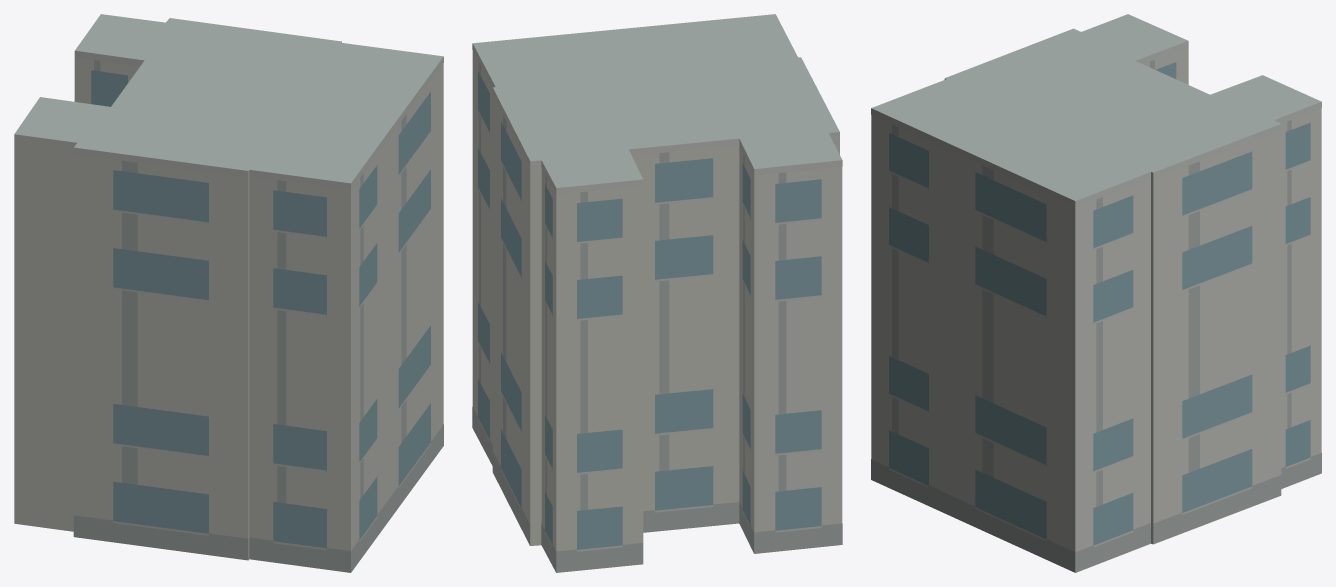
Rendered from survey-upis-32888631.glb.
The picture shows the model from 3 angles, left to right: view 1: azimuth 30°, elevation 25°; view 2: azimuth 150°, elevation 25°; view 3: azimuth 270°, elevation 25°; orthographic projection. The views are drawn at different scales.
Visible parts, largest first — view 1: survey-upis-32888631.tmp; view 2: survey-upis-32888631.tmp; view 3: survey-upis-32888631.tmp.
Part boxes in pixels (<box>): survey-upis-32888631.tmp: <box>14,14,443,572</box>; survey-upis-32888631.tmp: <box>472,14,842,572</box>; survey-upis-32888631.tmp: <box>871,14,1321,572</box>.
Size of the model in its own units: 15.29 by 14.15 by 15.55.
